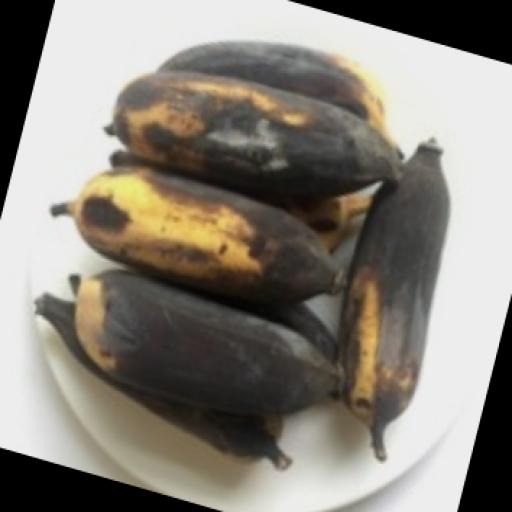banana-overripe: (17, 51, 481, 457)
